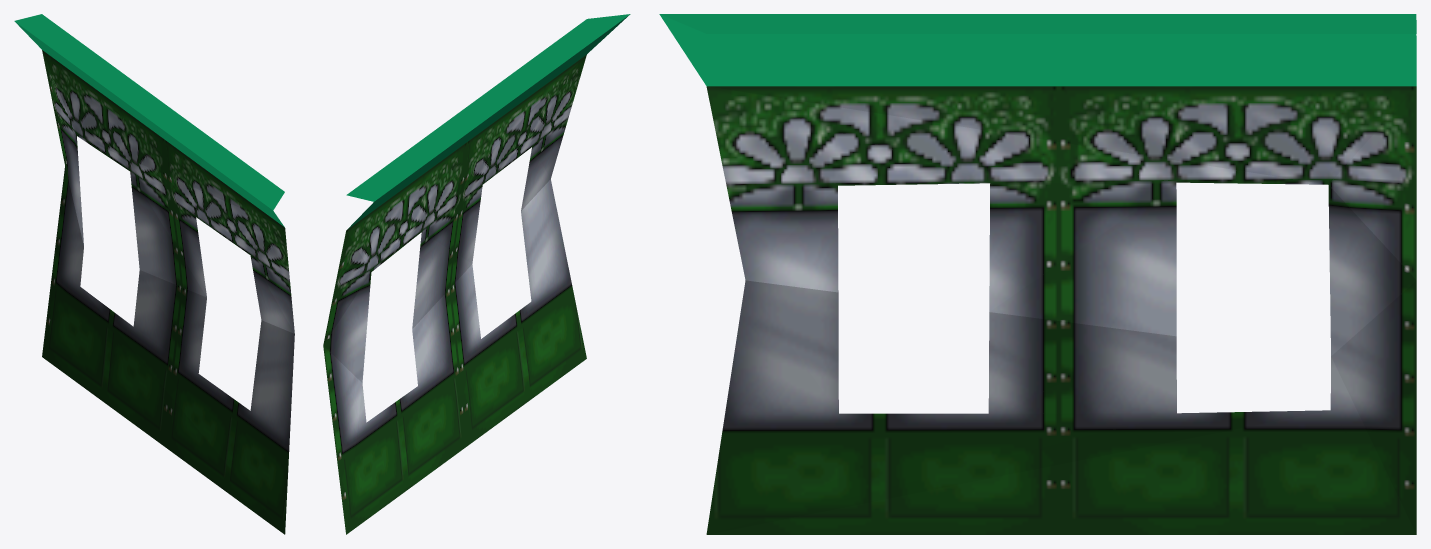
Rendered from W_A2l_ff [GrünesMetall]_299.glb.
3 views of the same model, side by side, from view 1: azimuth 30°, elevation 25°; view 2: azimuth 150°, elevation 25°; view 3: azimuth 270°, elevation 25° (orthographic). The views are drawn at different scales.
Parts seen in each view (by area): view 1: polySurfaceShape1183, polySurfaceShape1185; view 2: polySurfaceShape1183, polySurfaceShape1185; view 3: polySurfaceShape1183, polySurfaceShape1185.
Part boxes in pixels (x1,y1,x2,y2): polySurfaceShape1183: (42,50,294,534); polySurfaceShape1185: (14,14,284,227); polySurfaceShape1183: (323,54,586,534); polySurfaceShape1185: (346,14,630,229); polySurfaceShape1183: (706,86,1416,534); polySurfaceShape1185: (659,14,1416,86).
Bounding box in the file's own units: 0.0607 × 0.3891 × 0.5333.
Materials: 2 (1 with a texture image).
